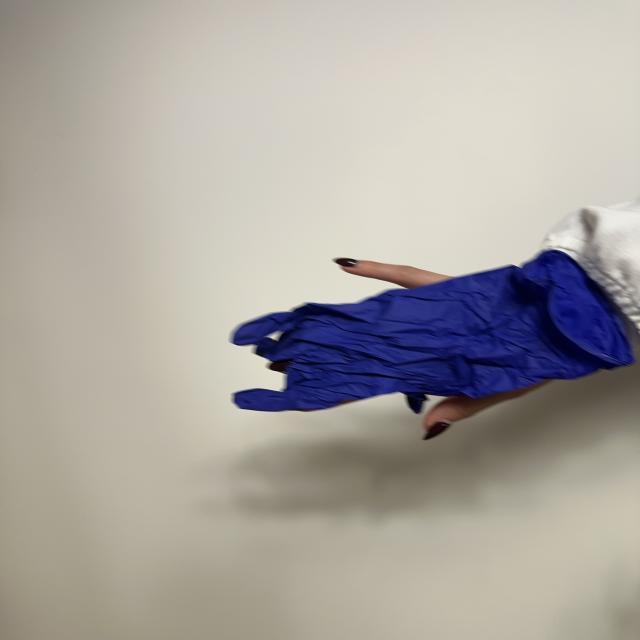glove_not_fitted: (232, 250, 635, 439)
